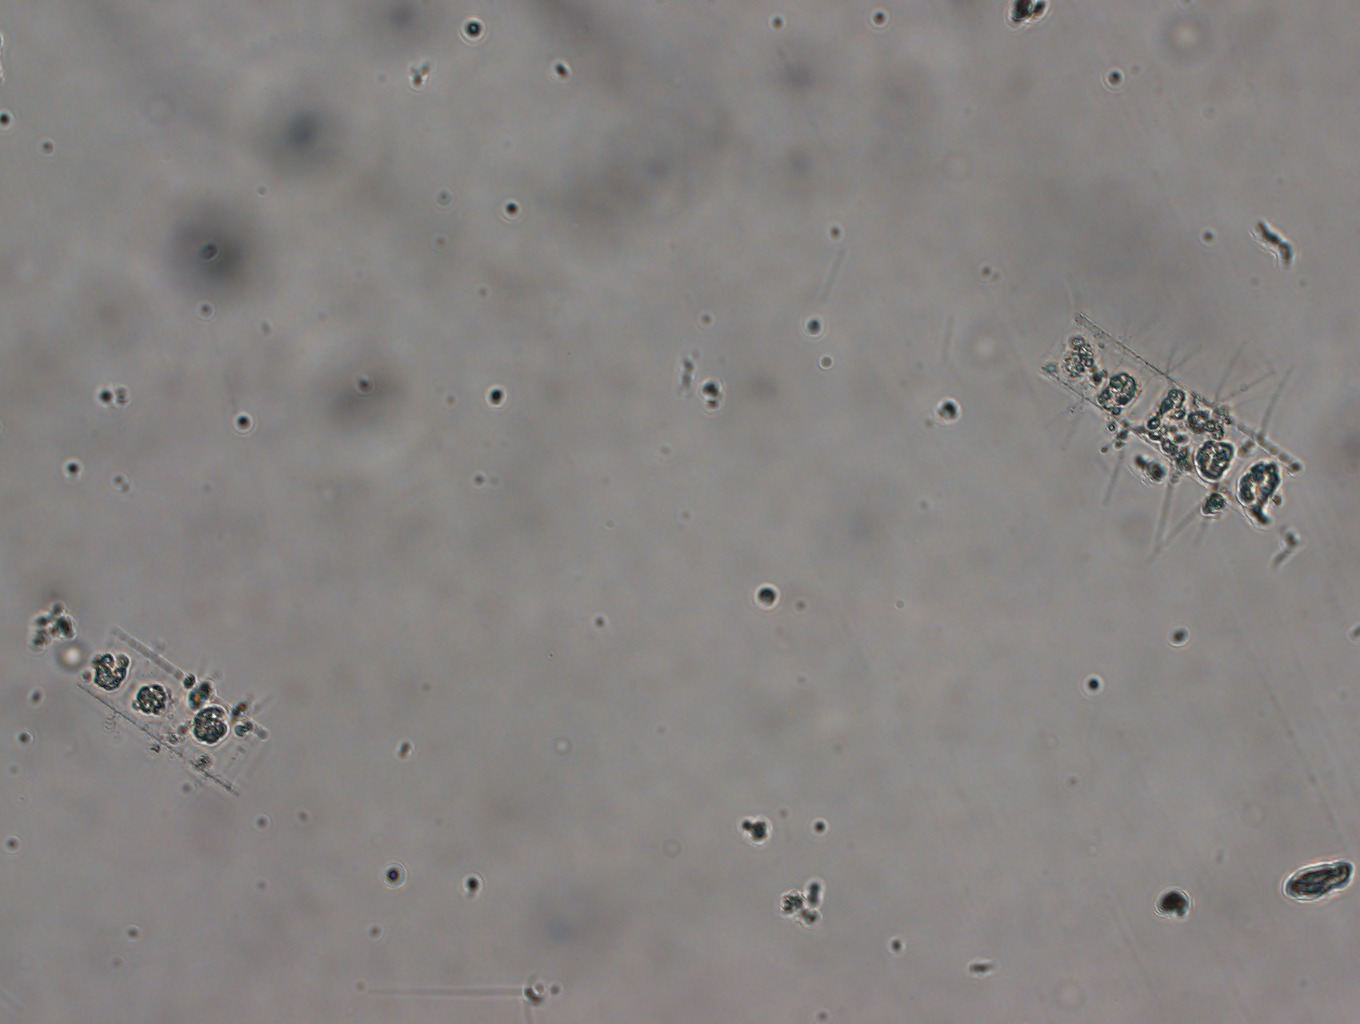chaetoceros: (1012, 274, 1306, 559), (59, 606, 276, 799)
